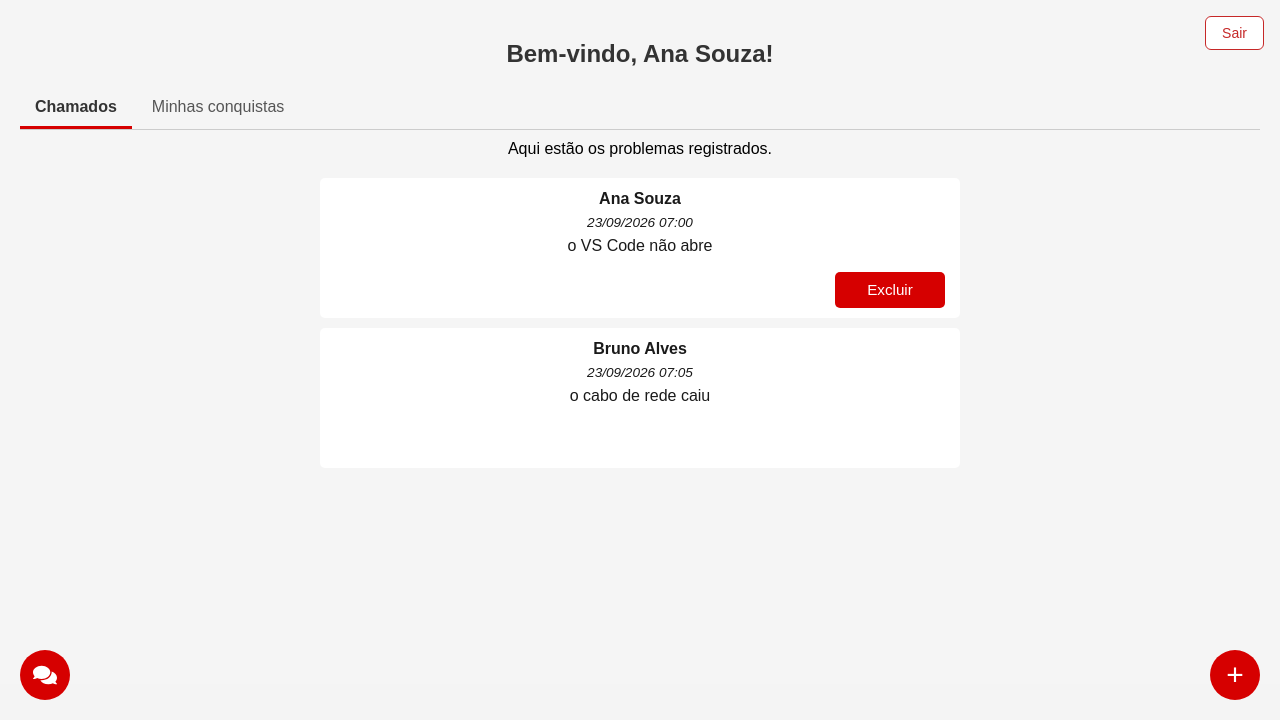
Scenario: o aluno exclui a própria dúvida, com confirmação (AC-CHAMADO-04) › confirmar tira o card da fila na hora — sem esperar o servidor
The image size is (1280, 720).
Click the button "Excluir" at (890, 290), box [835, 272, 945, 308]
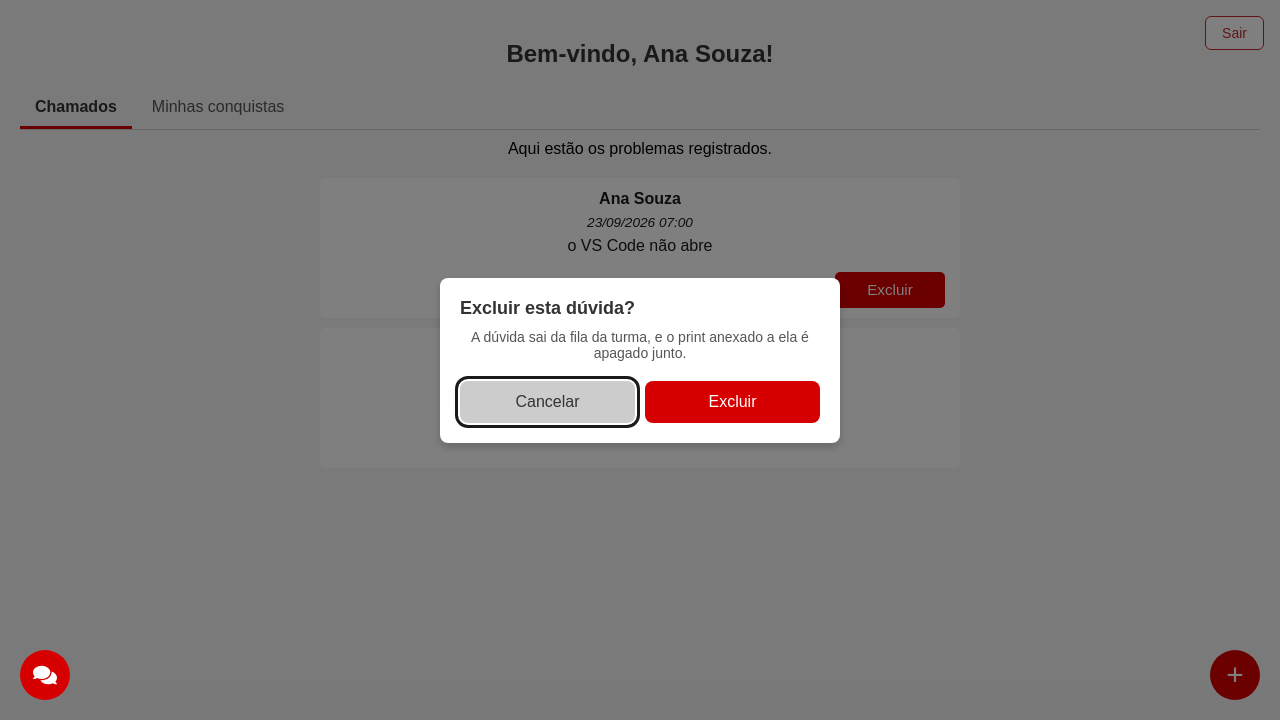
Click the button "Excluir" at (732, 402), box [645, 380, 820, 422]
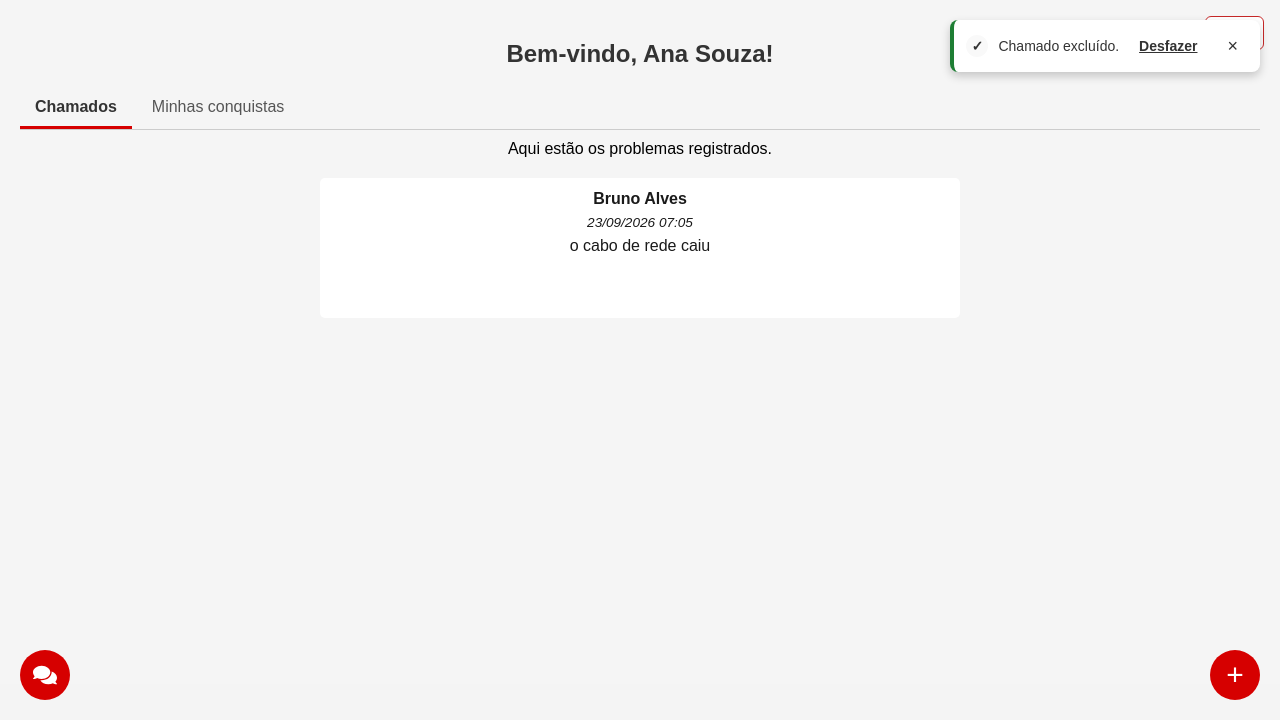
Check: the text "o VS Code não abre" is gone
